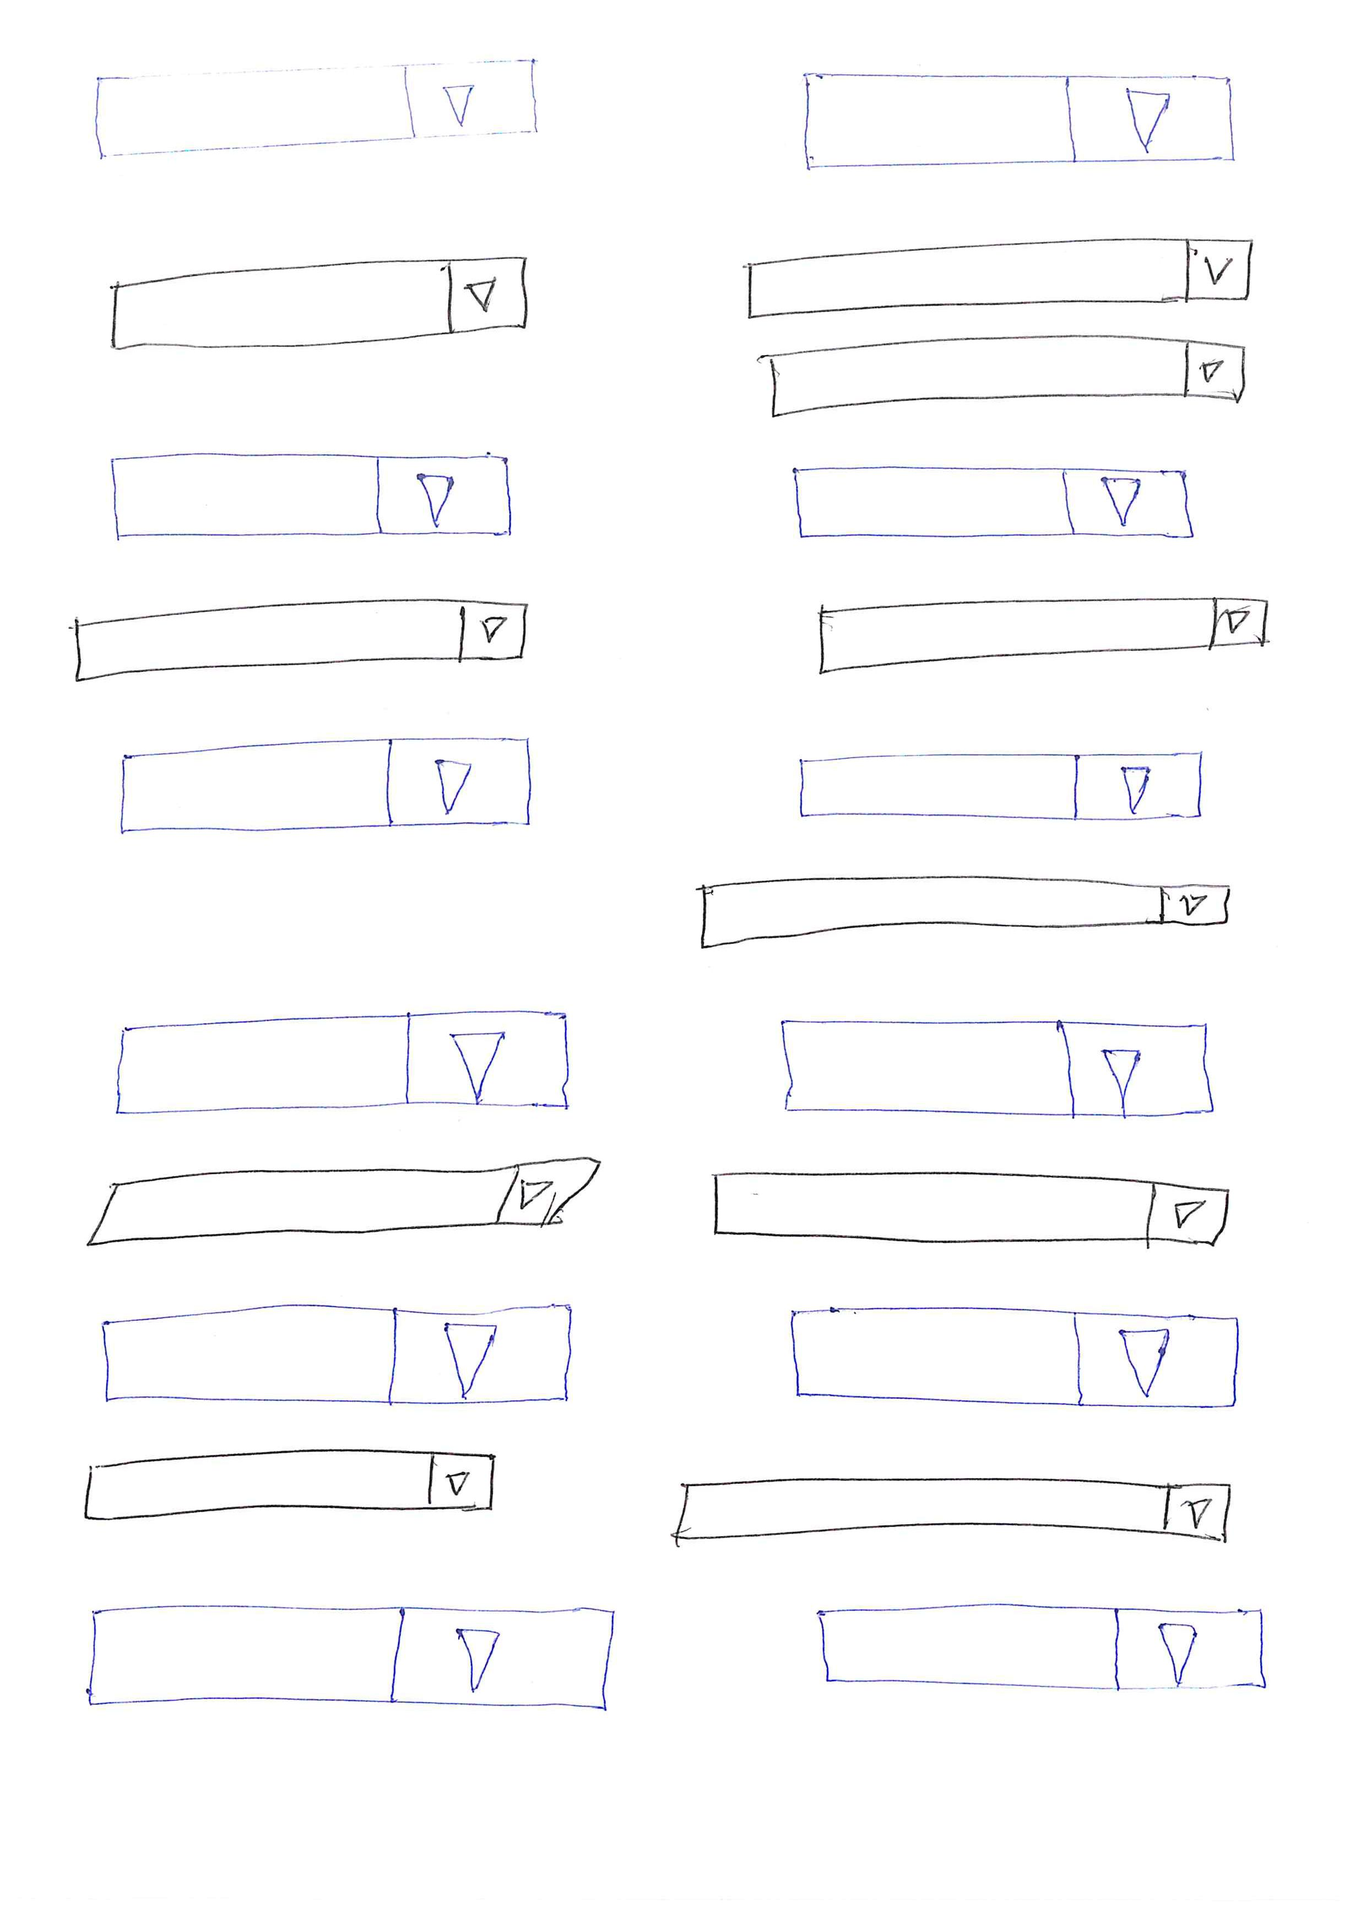Select: (84, 1603, 619, 1712), (109, 1007, 571, 1118), (101, 1301, 575, 1406), (84, 1156, 606, 1249), (789, 1307, 1240, 1411), (744, 237, 1257, 322), (698, 872, 1234, 952), (117, 735, 534, 837), (804, 72, 1236, 170), (764, 336, 1248, 421), (106, 254, 531, 352), (816, 1601, 1268, 1691), (71, 596, 531, 685), (781, 1022, 1212, 1115), (711, 1170, 1233, 1246), (815, 594, 1271, 677), (671, 1476, 1234, 1541), (109, 452, 514, 541), (81, 1448, 500, 1521), (792, 464, 1197, 540), (797, 750, 1206, 822)
